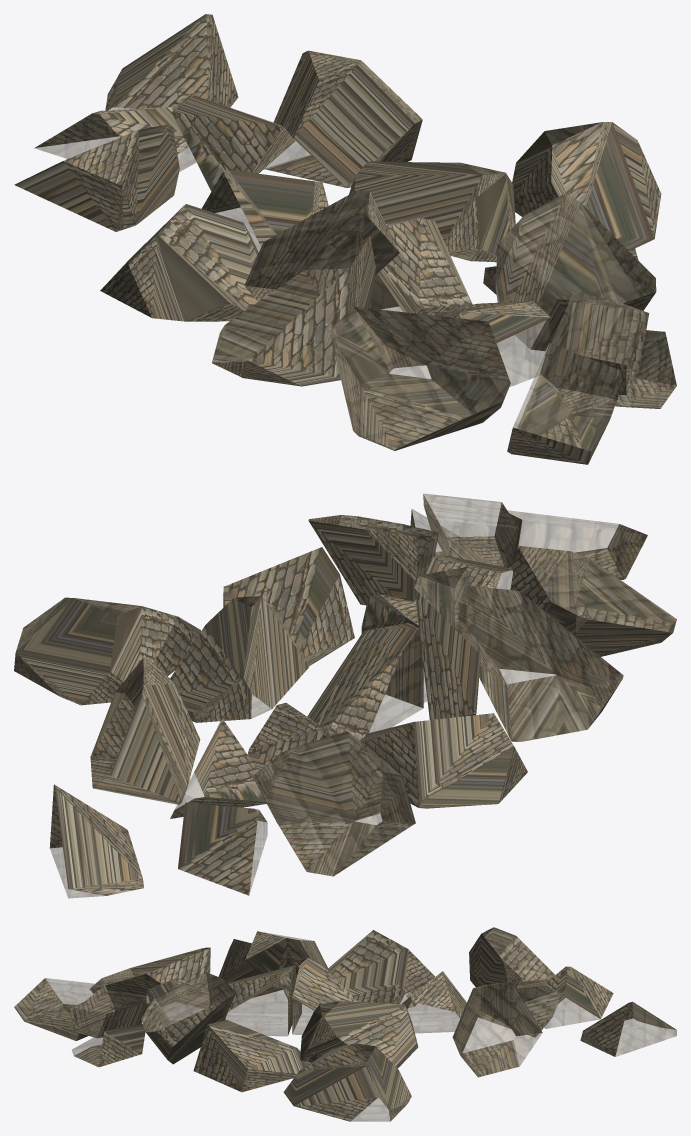
File: BreakWallSmall_000020.obj
3 views of the same model, one above another, from view 1: azimuth 30°, elevation 25°; view 2: azimuth 150°, elevation 25°; view 3: azimuth 270°, elevation 25° (orthographic). The views are drawn at different scales.
Parts seen in each view (by area): view 1: Cube.002_cell.013_Cube.002_cell.012, Cube.002_cell.004_Cube.002_cell.003, Cube.002_cell.014_Cube.002_cell.013, Cube.002_cell.017_Cube.002_cell.016, Cube.002_cell.012_Cube.002_cell.011, Cube.002_cell.003_Cube.002_cell.002, Cube.002_cell.015_Cube.002_cell.014, Cube.002_cell.010_Cube.002_cell.009, Cube.002_cell.002_Cube.002_cell.001, Cube.002_cell.009_Cube.002_cell.008, Cube.002_cell.005_Cube.002_cell.004, Cube.002_cell.008_Cube.002_cell.007 (+6 smaller); view 2: Cube.002_cell.017_Cube.002_cell.016, Cube.002_cell.010_Cube.002_cell.009, Cube.002_cell.003_Cube.002_cell.002, Cube.002_cell.015_Cube.002_cell.014, Cube.002_cell.014_Cube.002_cell.013, Cube.002_cell.012_Cube.002_cell.011, Cube.002_cell.013_Cube.002_cell.012, Cube.002_cell.006_Cube.002_cell.005, Cube.002_cell.009_Cube.002_cell.008, Cube.002_cell.016_Cube.002_cell.015, Cube.002_cell.004_Cube.002_cell.003, Cube.002_cell.005_Cube.002_cell.004 (+7 smaller); view 3: Cube.002_cell.003_Cube.002_cell.002, Cube.002_cell.014_Cube.002_cell.013, Cube.002_cell.015_Cube.002_cell.014, Cube.002_cell.016_Cube.002_cell.015, Cube.002_cell.004_Cube.002_cell.003, Cube.002_cell.012_Cube.002_cell.011, Cube.002_cell.008_Cube.002_cell.007, Cube.002_cell.010_Cube.002_cell.009, Cube.002_cell.013_Cube.002_cell.012, Cube.002_cell.002_Cube.002_cell.001, Cube.002_cell.005_Cube.002_cell.004, Cube.002_cell.018_Cube.002_cell.017 (+8 smaller).
Part boxes in pixels (x1=…): Cube.002_cell.013_Cube.002_cell.012: x1=330, y1=306, x2=510, y2=450; Cube.002_cell.004_Cube.002_cell.003: x1=495, y1=193, x2=656, y2=350; Cube.002_cell.014_Cube.002_cell.013: x1=264, y1=50, x2=422, y2=187; Cube.002_cell.017_Cube.002_cell.016: x1=212, y1=236, x2=375, y2=386; Cube.002_cell.012_Cube.002_cell.011: x1=100, y1=204, x2=258, y2=321; Cube.002_cell.003_Cube.002_cell.002: x1=512, y1=122, x2=661, y2=248; Cube.002_cell.015_Cube.002_cell.014: x1=349, y1=161, x2=515, y2=262; Cube.002_cell.010_Cube.002_cell.009: x1=14, y1=124, x2=179, y2=231; Cube.002_cell.002_Cube.002_cell.001: x1=507, y1=343, x2=625, y2=464; Cube.002_cell.009_Cube.002_cell.008: x1=244, y1=190, x2=399, y2=301; Cube.002_cell.005_Cube.002_cell.004: x1=105, y1=14, x2=238, y2=110; Cube.002_cell.008_Cube.002_cell.007: x1=370, y1=218, x2=472, y2=315; Cube.002_cell.017_Cube.002_cell.016: x1=458, y1=585, x2=623, y2=741; Cube.002_cell.010_Cube.002_cell.009: x1=252, y1=731, x2=415, y2=876; Cube.002_cell.003_Cube.002_cell.002: x1=14, y1=597, x2=200, y2=705; Cube.002_cell.015_Cube.002_cell.014: x1=170, y1=596, x2=308, y2=722; Cube.002_cell.014_Cube.002_cell.013: x1=90, y1=658, x2=200, y2=804; Cube.002_cell.012_Cube.002_cell.011: x1=361, y1=713, x2=527, y2=808; Cube.002_cell.013_Cube.002_cell.012: x1=510, y1=545, x2=676, y2=656; Cube.002_cell.006_Cube.002_cell.005: x1=307, y1=623, x2=423, y2=741; Cube.002_cell.009_Cube.002_cell.008: x1=414, y1=567, x2=480, y2=719; Cube.002_cell.016_Cube.002_cell.015: x1=223, y1=547, x2=354, y2=666; Cube.002_cell.004_Cube.002_cell.003: x1=308, y1=515, x2=438, y2=605; Cube.002_cell.005_Cube.002_cell.004: x1=49, y1=784, x2=143, y2=898; Cube.002_cell.003_Cube.002_cell.002: x1=283, y1=1043, x2=411, y2=1121; Cube.002_cell.014_Cube.002_cell.013: x1=452, y1=982, x2=542, y2=1077; Cube.002_cell.015_Cube.002_cell.014: x1=300, y1=1001, x2=418, y2=1068; Cube.002_cell.016_Cube.002_cell.015: x1=193, y1=1020, x2=311, y2=1092; Cube.002_cell.004_Cube.002_cell.003: x1=141, y1=972, x2=235, y2=1064; Cube.002_cell.012_Cube.002_cell.011: x1=328, y1=930, x2=435, y2=1007; Cube.002_cell.008_Cube.002_cell.007: x1=225, y1=965, x2=295, y2=1036; Cube.002_cell.010_Cube.002_cell.009: x1=469, y1=927, x2=554, y2=988; Cube.002_cell.013_Cube.002_cell.012: x1=89, y1=947, x2=210, y2=1010; Cube.002_cell.002_Cube.002_cell.001: x1=14, y1=978, x2=114, y2=1040; Cube.002_cell.005_Cube.002_cell.004: x1=580, y1=1001, x2=676, y2=1056; Cube.002_cell.018_Cube.002_cell.017: x1=542, y1=966, x2=613, y2=1028.
Bounding box in the file's own units: 29.19 × 6.78 × 50.9.
2 materials, 2 textured.
